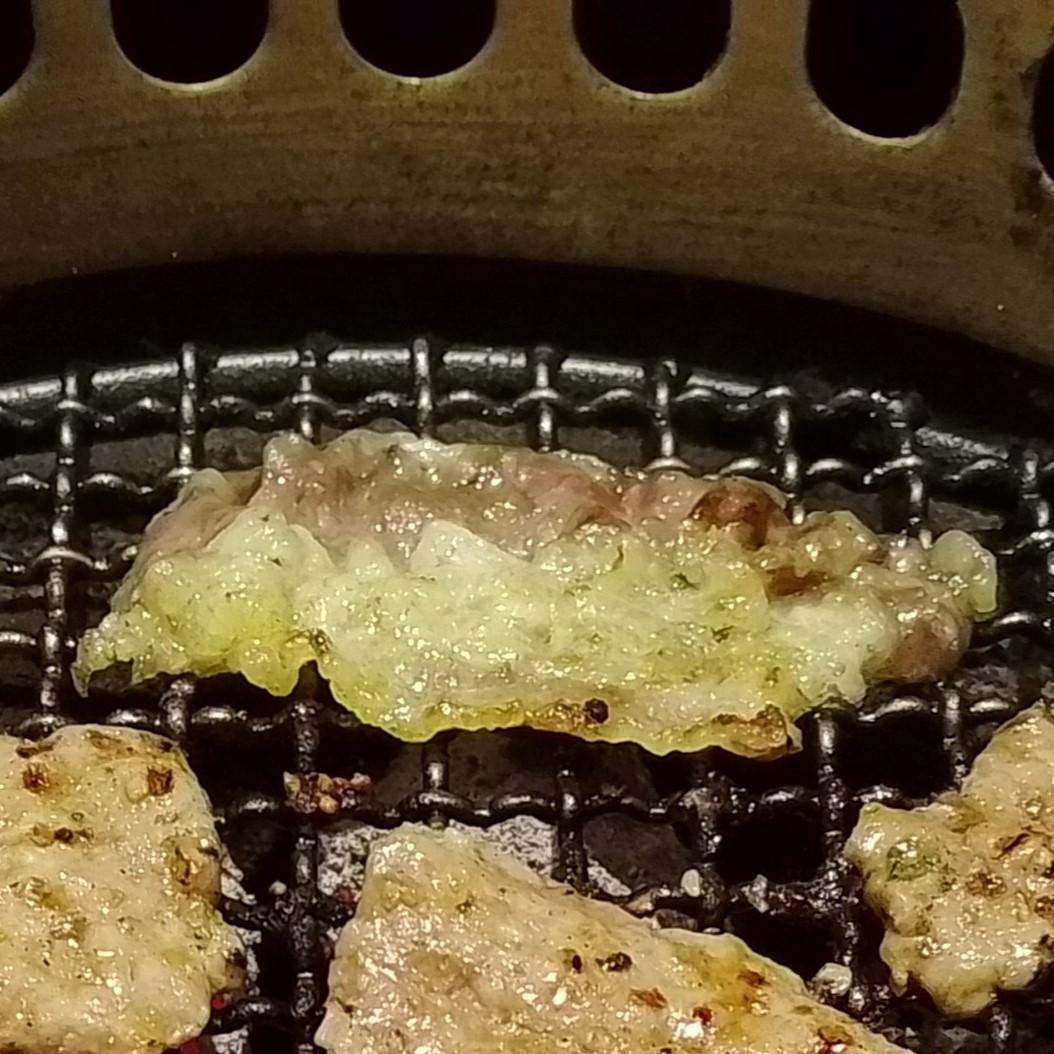Well-Cooked: (73, 428, 994, 763), (315, 830, 916, 1053), (0, 723, 250, 1053), (845, 668, 1053, 1053)
